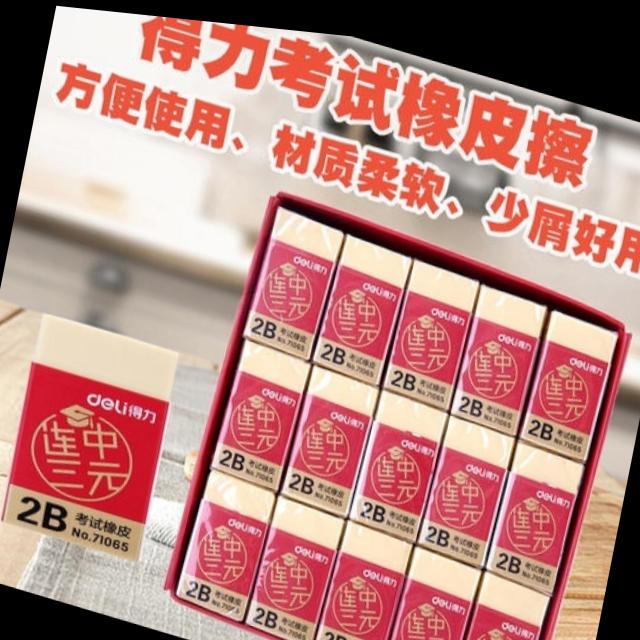box: (164, 185, 632, 640)
